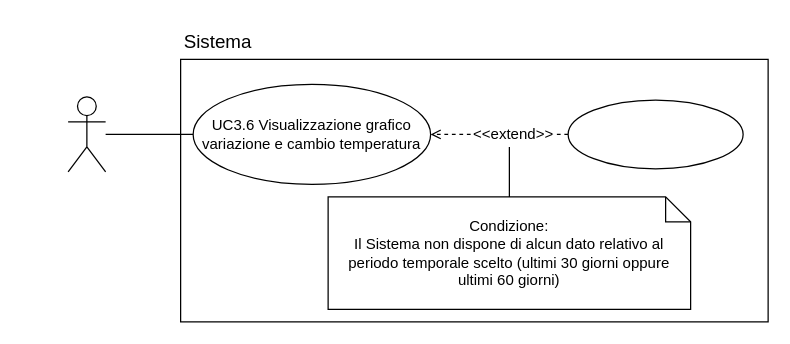
Image size: 790x344. Some labels were removed from this diagram. The centre of each missing label's shape, as x and y in pixels:
"Operatore Sanitario" belongs at point 86,134.
"UC7 Errore dati insufficienti" belongs at point 655,134.
